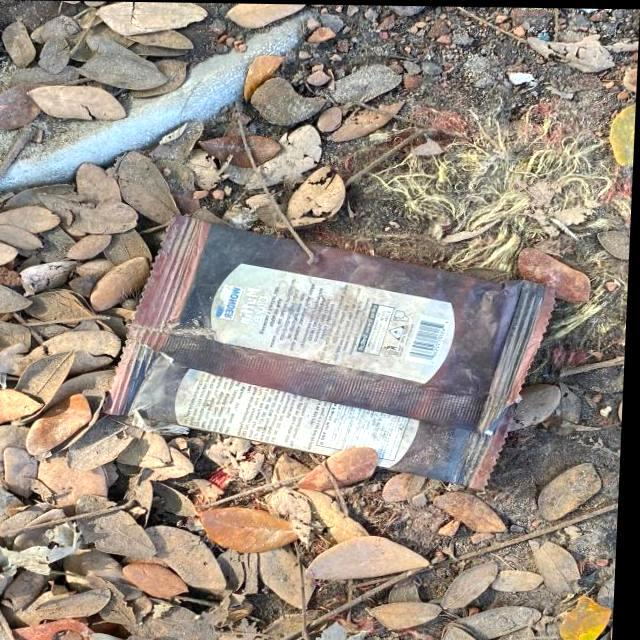packet: (133, 244, 543, 456)
